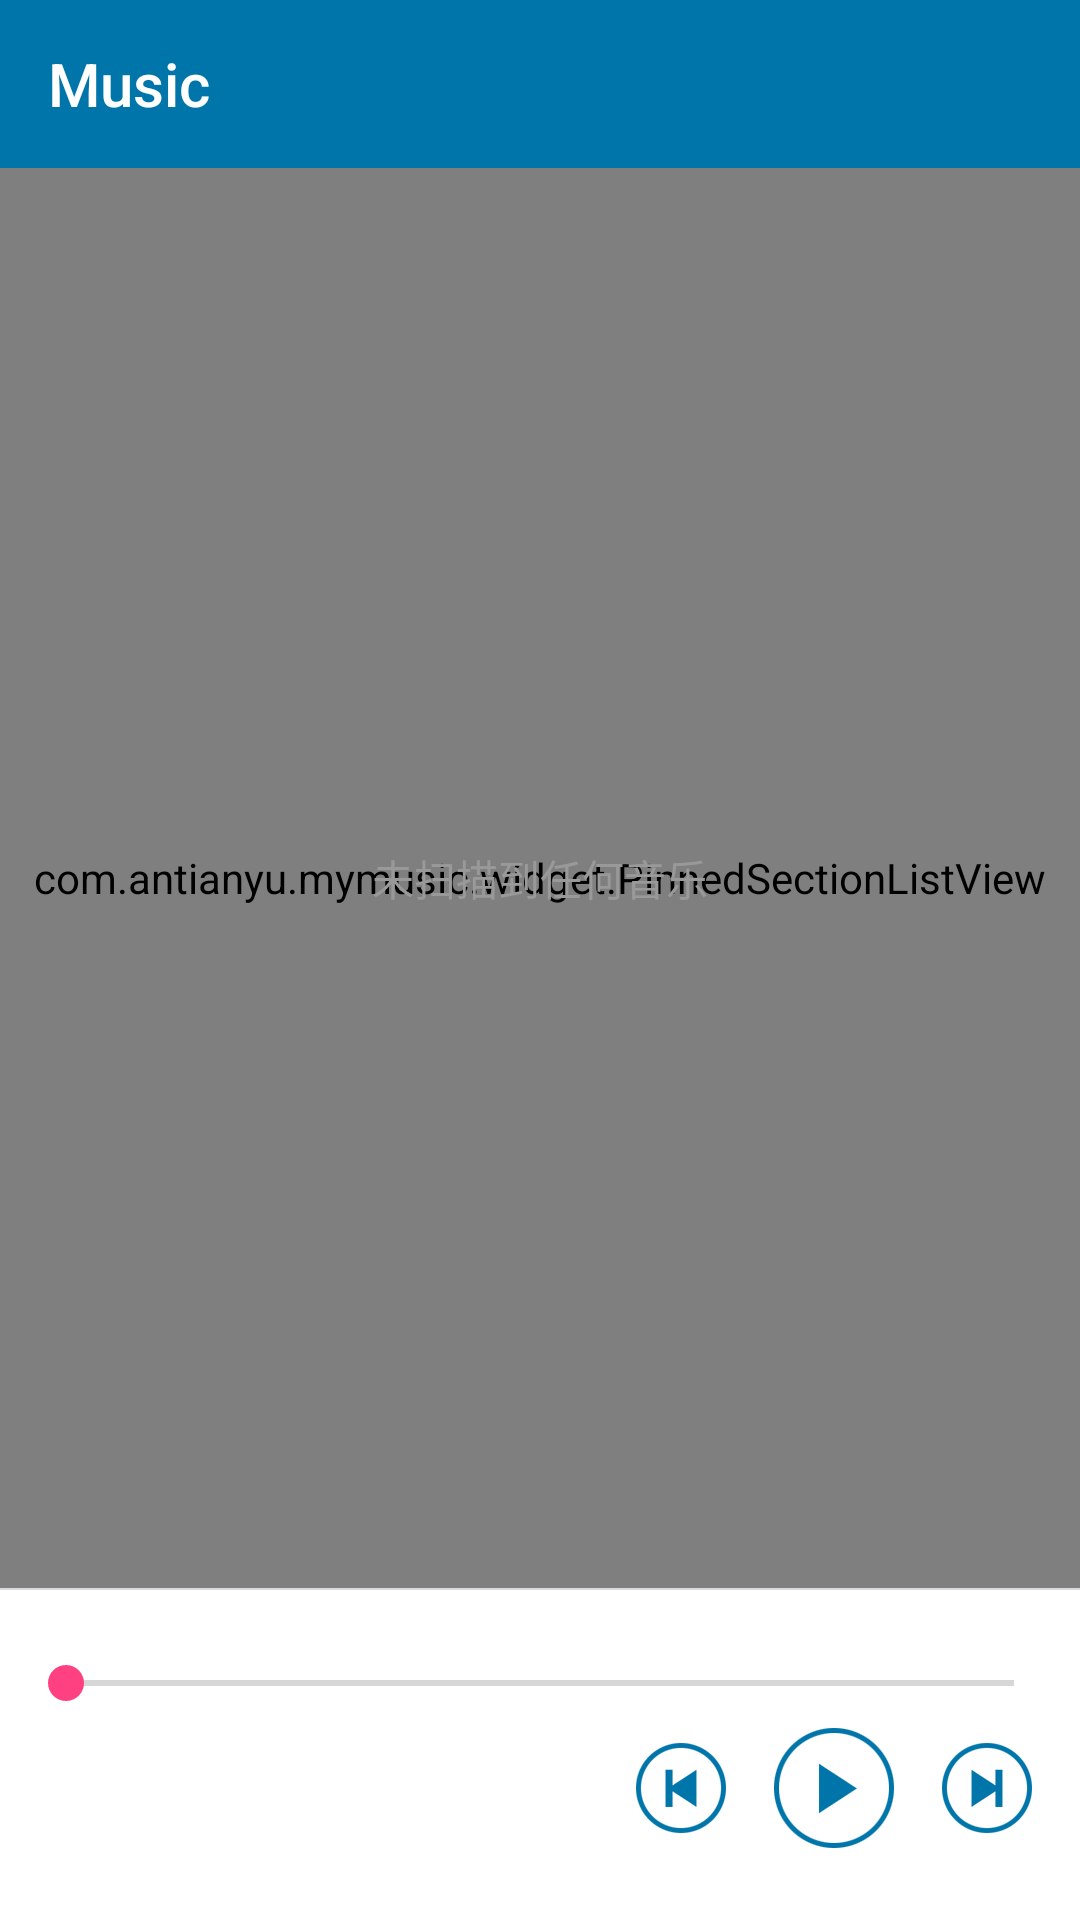

Where icons sit on this 1080×1920 app screen, as box(x1, y1, x2, y2):
上一首: box(636, 1743, 726, 1833)
下一首: box(942, 1743, 1032, 1833)
播放: box(774, 1728, 894, 1848)
